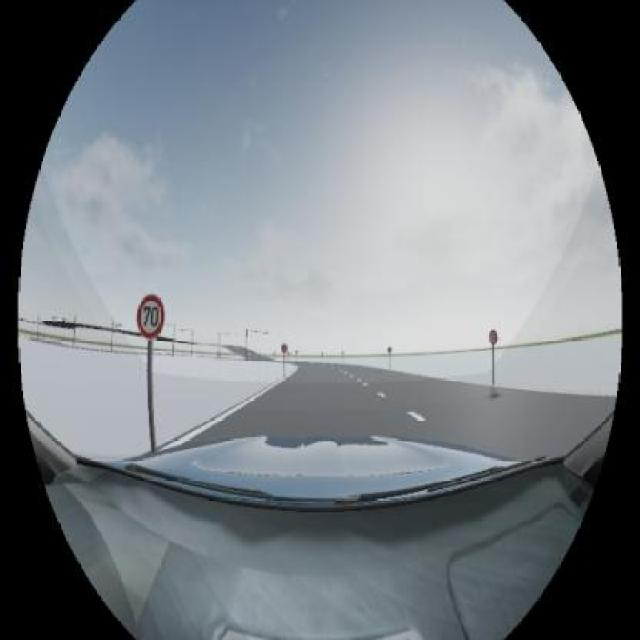forb_speed_over_70: (137, 295, 165, 339)
